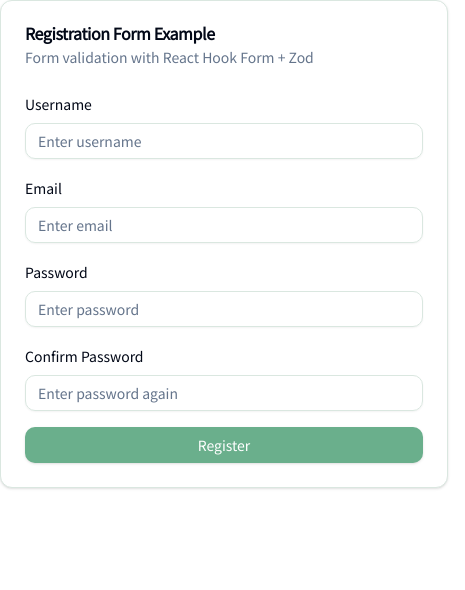
Test case: FormExample 组件 › 应该显示用户名验证错误
Type "ab" into the field labelled "Username" at point(224, 141), box [25,123,423,159]
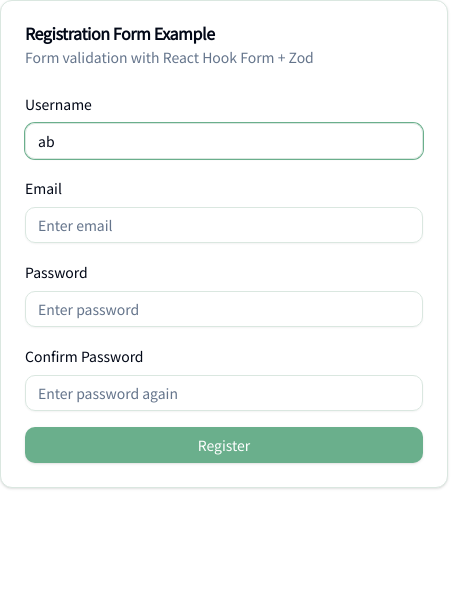
Click the button "Register" at point(224, 445), box [25,427,423,463]
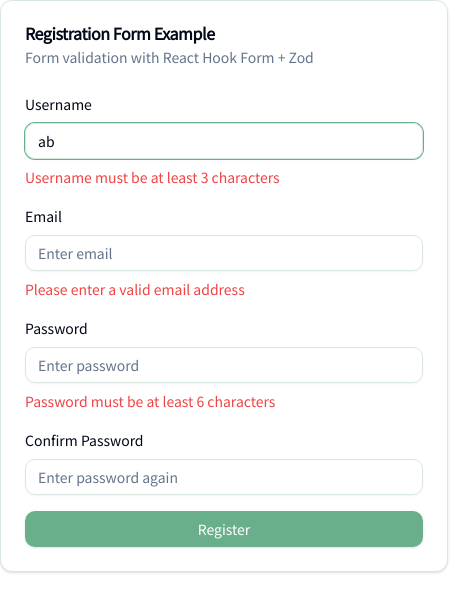
Now the text "Username must be at least 3 characters" is shown, box [25,167,280,187]
